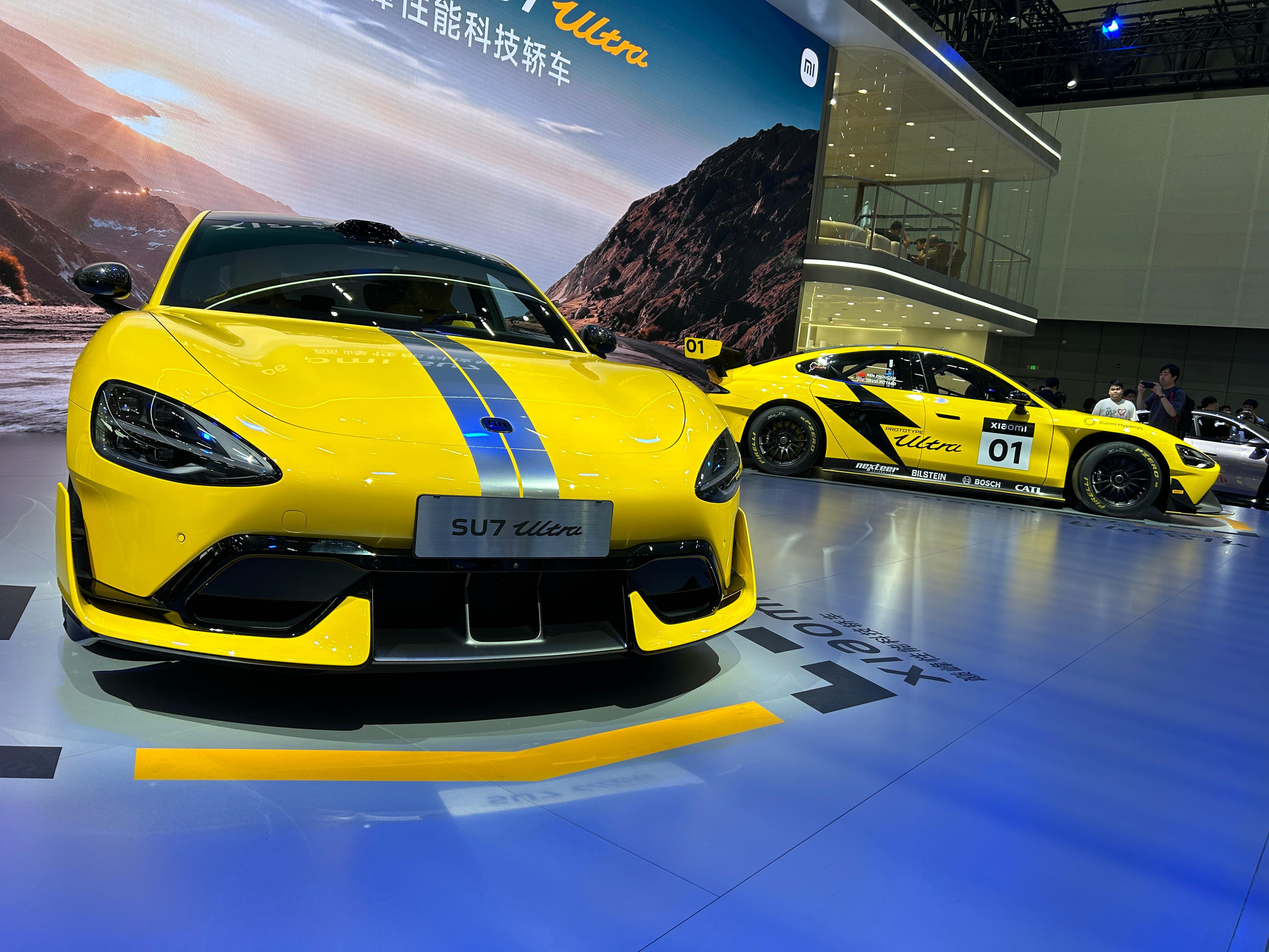su7: (56, 215, 758, 702), (672, 327, 1225, 521)
